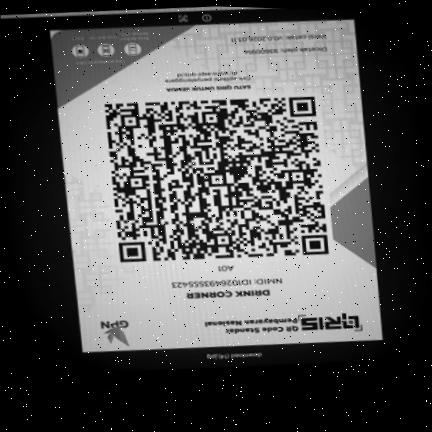Cara Pakai QRIS: (50, 27, 157, 68)
Cek Aplikasi Penyelenggara: (160, 68, 254, 86)
Dicetak Oleh: (237, 44, 333, 58)
Logo GPN: (92, 316, 137, 349)
Logo dan deskripsi QRIS: (197, 308, 369, 340)
Nama Merchant: (180, 287, 274, 301)
National Merchant ID: (166, 276, 285, 289)
QR Code: (98, 93, 335, 265)
Slogan: (161, 83, 255, 93)
Terminal ID: (214, 264, 237, 273)
Versi Cetak: (224, 30, 332, 46)
